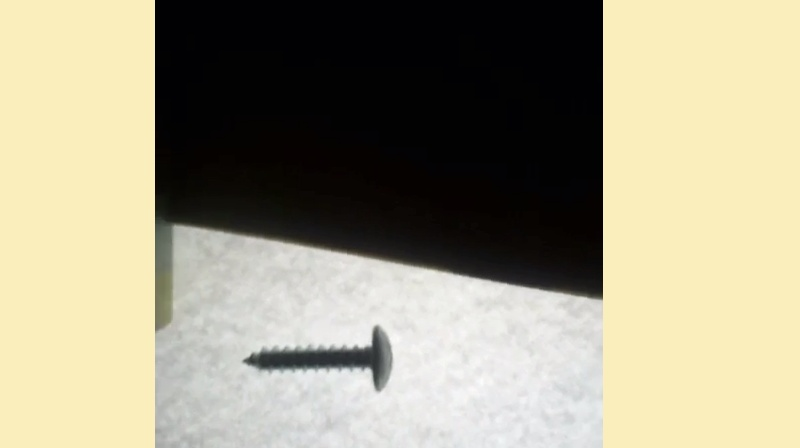S003: (241, 318, 397, 394)
